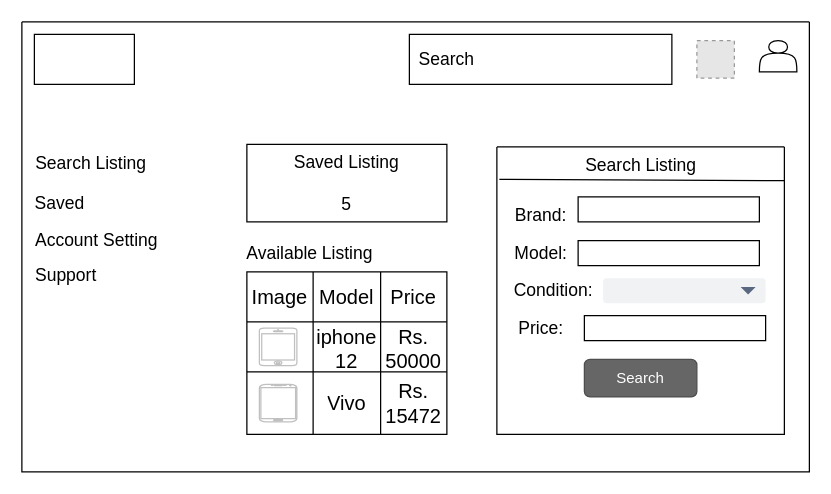
Some shapes in this 831 by 494 pixel diagram are drawn without their labels. Grey dashed boxes stand in for pictures. The shapes that lost their labels are listed below. From the top down, each one's centre as x and y in pixels, then its label:
[83,58]: SmartResell
[683,290]: Good
